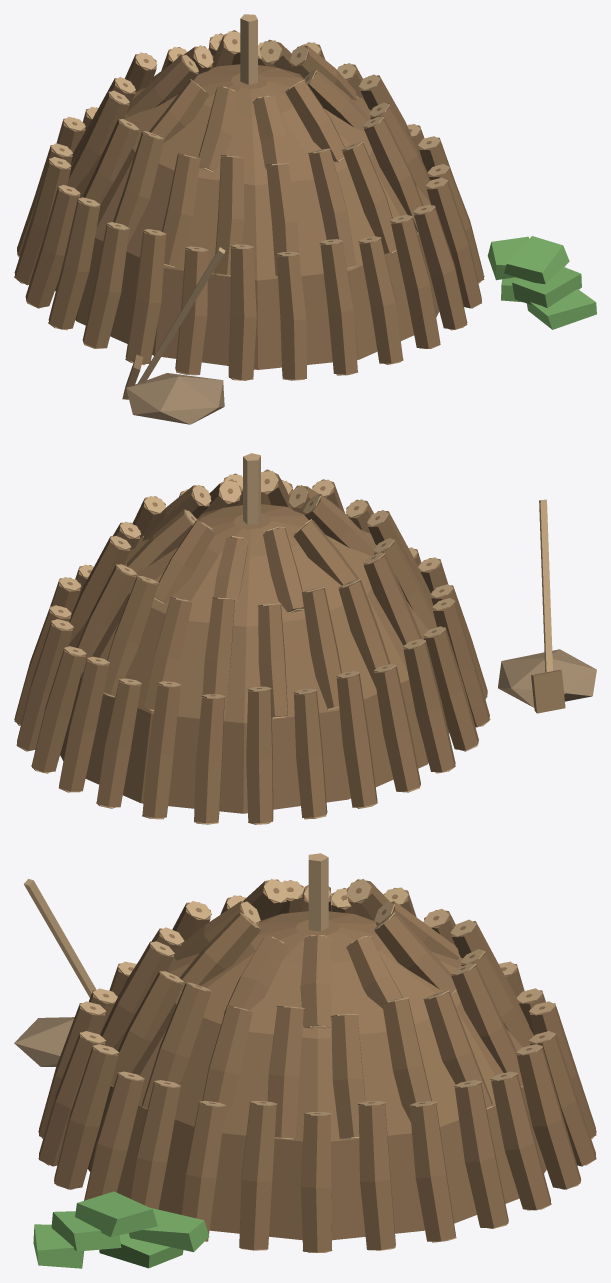
The model's file is building_charcoal_clamp_half.glb.
3 views of the same model, one above another, from view 1: azimuth 30°, elevation 25°; view 2: azimuth 150°, elevation 25°; view 3: azimuth 270°, elevation 25° (orthographic). The views are drawn at different scales.
Visible parts, largest first — view 1: building_charcoal_clamp_half; view 2: building_charcoal_clamp_half; view 3: building_charcoal_clamp_half.
Part boxes in pixels (x1,y1,x2,y2): building_charcoal_clamp_half: (14,14,596,424); building_charcoal_clamp_half: (14,453,596,824); building_charcoal_clamp_half: (14,853,596,1268).
Size of the model in its own units: 2 by 1.1 by 2.
